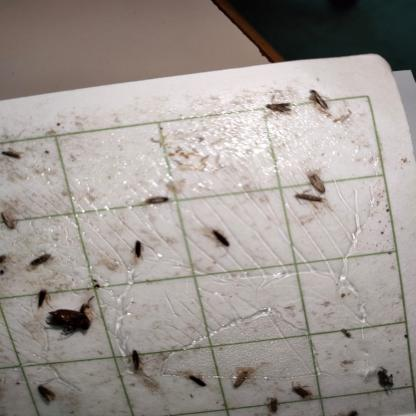prays_oleae: (203, 224, 242, 268), (227, 363, 257, 401), (21, 244, 54, 278), (262, 95, 295, 129), (122, 338, 144, 388), (375, 357, 400, 401), (127, 231, 153, 273), (138, 190, 176, 216), (306, 83, 332, 121), (292, 191, 327, 217), (304, 164, 330, 198), (186, 362, 210, 398), (34, 376, 58, 412), (34, 276, 55, 316), (288, 378, 318, 406), (1, 134, 20, 170), (1, 204, 18, 242), (263, 391, 280, 415)
